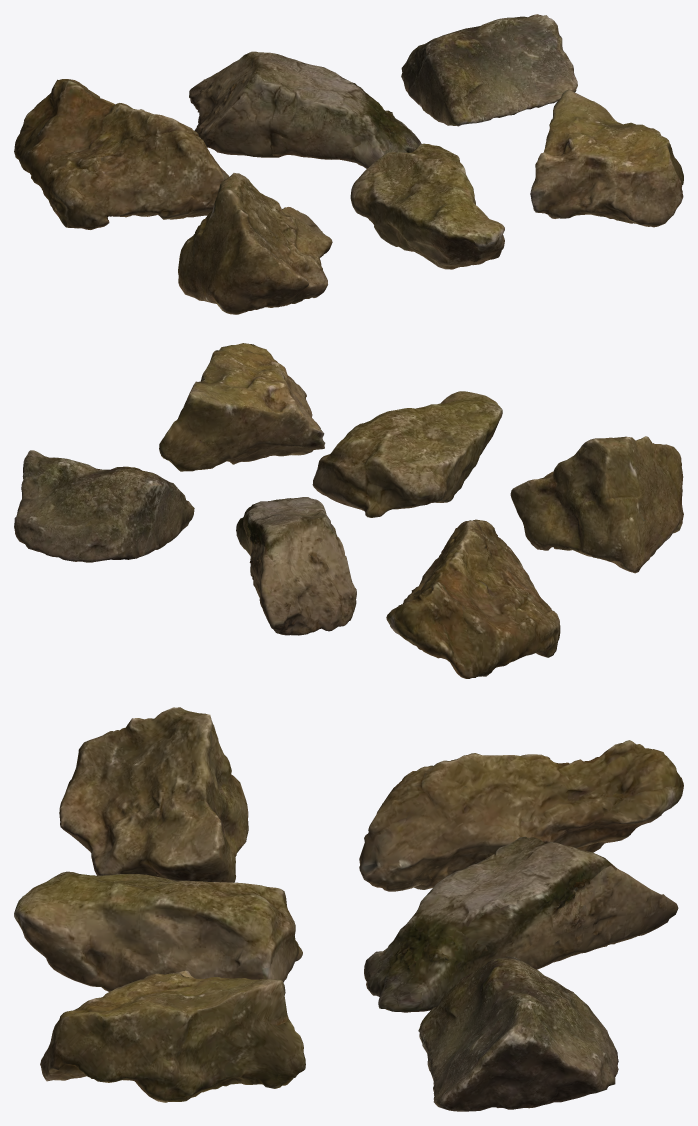
The model's file is rock_moss_set_01.glb.
3 views of the same model, one above another, from view 1: azimuth 30°, elevation 25°; view 2: azimuth 150°, elevation 25°; view 3: azimuth 270°, elevation 25° (orthographic). The views are drawn at different scales.
Visible parts, largest first — view 1: rock_moss_set_01_rock01; view 2: rock_moss_set_01_rock01; view 3: rock_moss_set_01_rock01.
Boxes of the visible parts, x1,y1,x2,y2 form: rock_moss_set_01_rock01: [14, 14, 683, 314]; rock_moss_set_01_rock01: [14, 343, 683, 678]; rock_moss_set_01_rock01: [14, 707, 683, 1111].
Size of the model in its own units: 8 by 1.77 by 6.95.
Materials: 1 (1 with a texture image).
